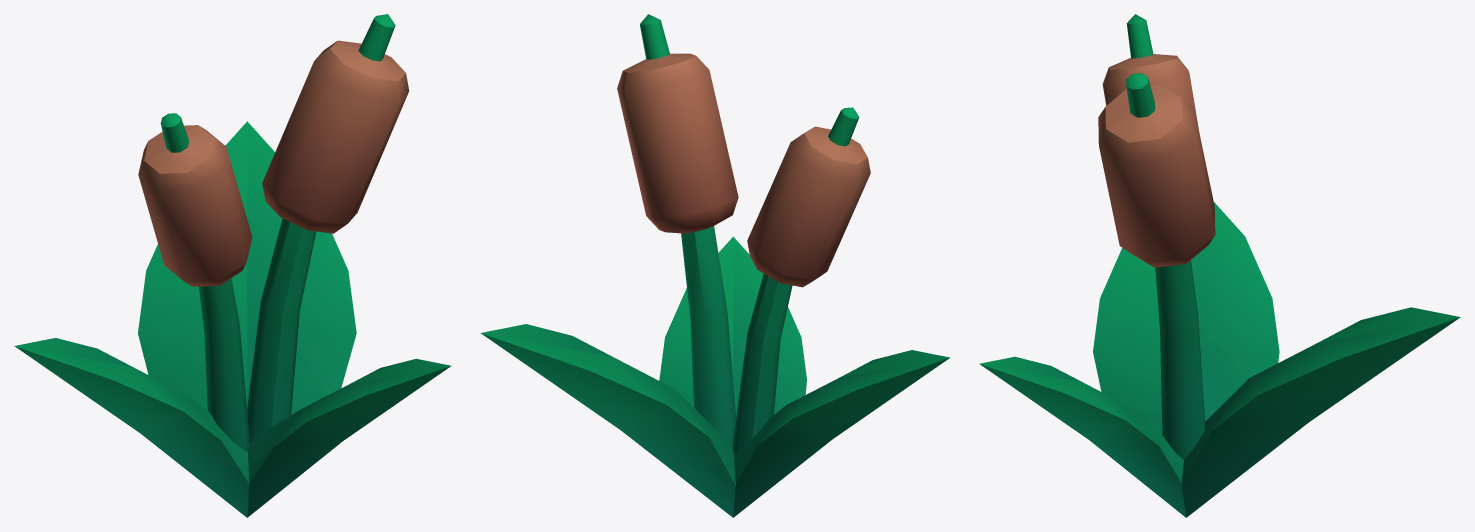
Rendered from d_kaykit_roseau_c.glb.
3 views of the same model, side by side, from view 1: azimuth 30°, elevation 25°; view 2: azimuth 150°, elevation 25°; view 3: azimuth 270°, elevation 25° (orthographic). The views are drawn at different scales.
Visible parts, largest first — view 1: d_kaykit_roseau_c; view 2: d_kaykit_roseau_c; view 3: d_kaykit_roseau_c.
Boxes of the visible parts, x1,y1,x2,y2 form: d_kaykit_roseau_c: (14,14,451,517); d_kaykit_roseau_c: (481,14,949,517); d_kaykit_roseau_c: (979,14,1460,517).
Bounding box in the file's own units: 0.1983 × 0.2472 × 0.2157.
Materials: 1 (1 with a texture image).
